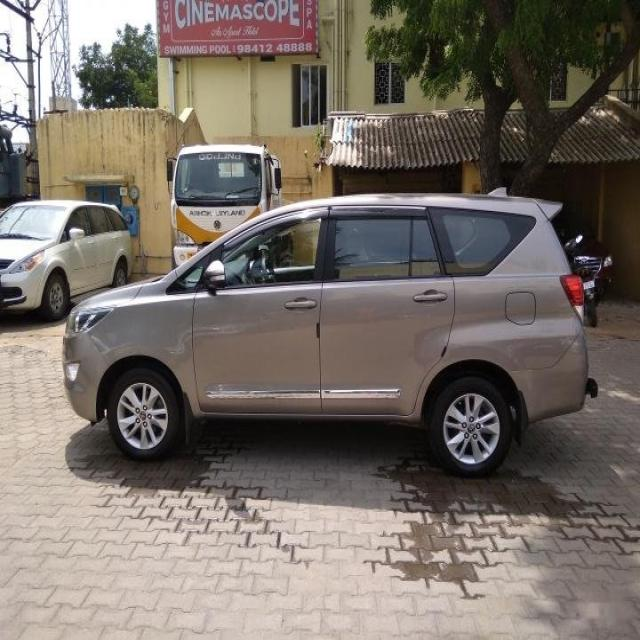light_vehicle: (61, 192, 599, 478)
